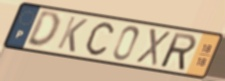0: (112, 25, 141, 62)
C: (84, 21, 115, 57)
D: (24, 11, 61, 51)
K: (55, 15, 90, 54)
R: (160, 31, 199, 73)
X: (133, 27, 172, 68)
